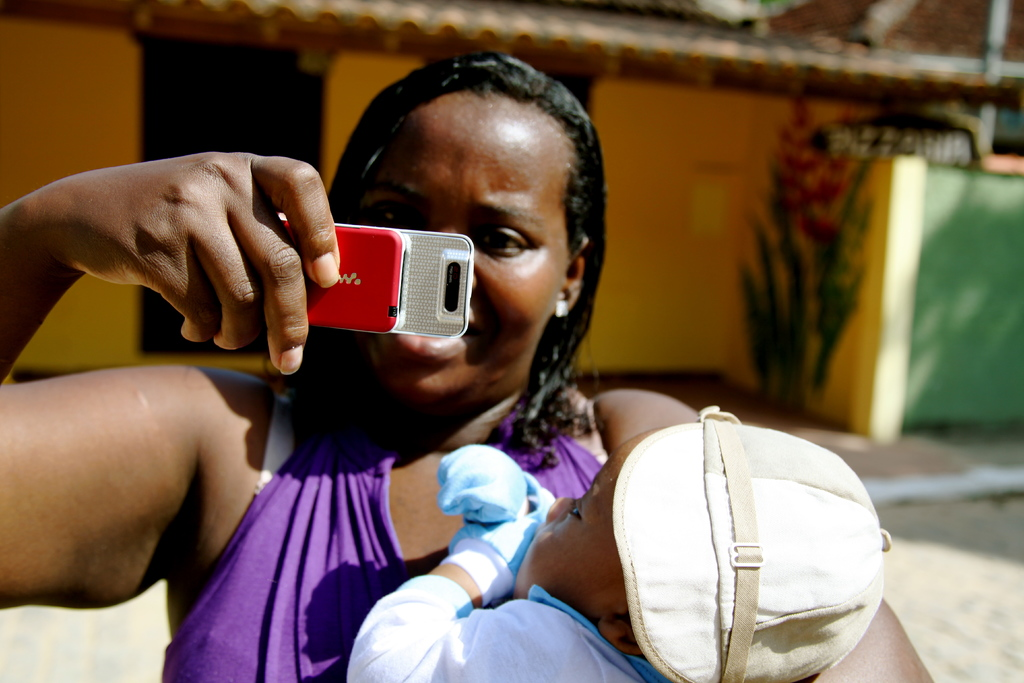Mobile-phone: (280, 210, 470, 343)
